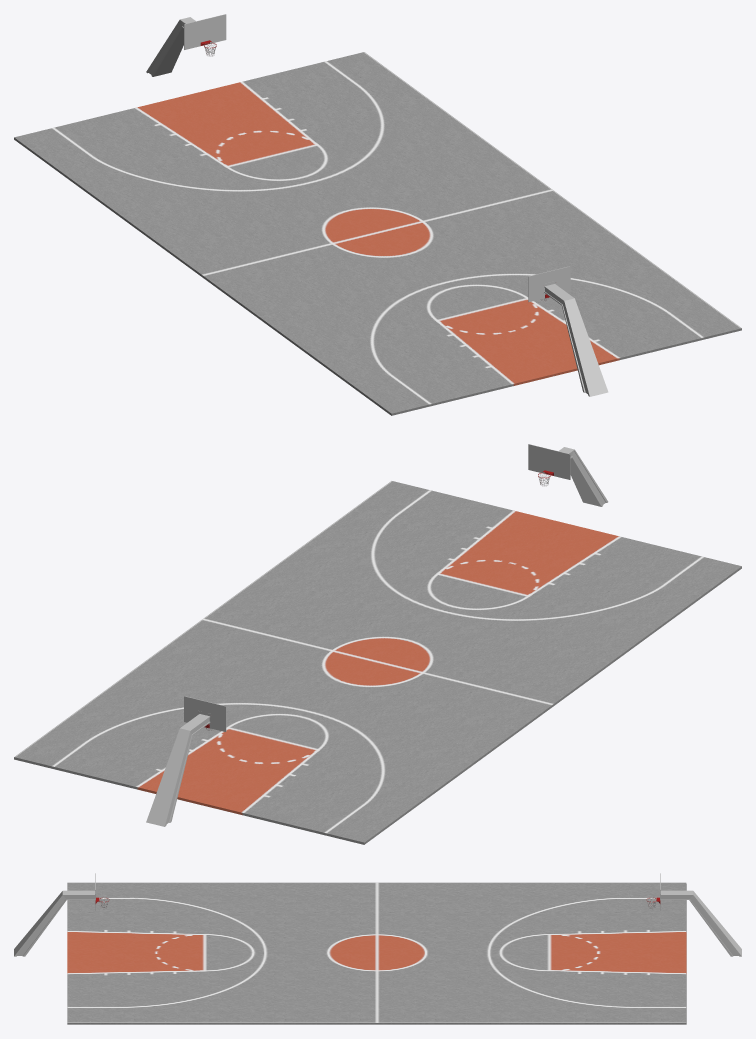
The model's file is BASKETxMarcoblend.fbx.
3 renders of one model, top to bottom at view 1: azimuth 30°, elevation 25°; view 2: azimuth 150°, elevation 25°; view 3: azimuth 270°, elevation 25°, orthographic. The views are drawn at different scales.
Visible parts, largest first — view 1: Basketball, Basketball_Backboard.002, Basketball_tabellone, Basketball_Backboard, Basketball_tabellone.002; view 2: Basketball, Basketball_Backboard, Basketball_Backboard.002, Basketball_tabellone.002, Basketball_tabellone; view 3: Basketball, Basketball_Backboard, Basketball_Backboard.002.
Part boxes in pixels (left/top/right/bottom): Basketball: left=14, top=52, right=741, bottom=415; Basketball_Backboard.002: left=544, top=284, right=608, bottom=396; Basketball_tabellone: left=184, top=14, right=226, bottom=49; Basketball_Backboard: left=146, top=17, right=195, bottom=76; Basketball_tabellone.002: left=528, top=266, right=570, bottom=302; Basketball: left=14, top=481, right=741, bottom=844; Basketball_Backboard: left=146, top=714, right=210, bottom=826; Basketball_Backboard.002: left=558, top=447, right=608, bottom=506; Basketball_tabellone.002: left=528, top=444, right=570, bottom=479; Basketball_tabellone: left=184, top=696, right=226, bottom=731; Basketball: left=67, top=882, right=686, bottom=1024; Basketball_Backboard: left=660, top=890, right=741, bottom=956; Basketball_Backboard.002: left=14, top=890, right=95, bottom=956.
Bounding box in the file's own units: 1500 × 365 × 3292.
